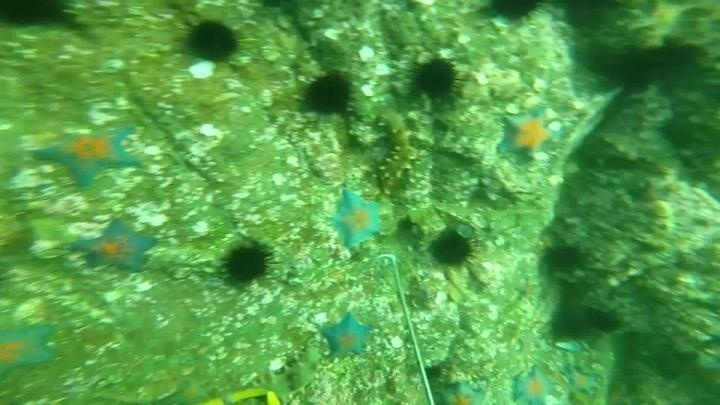echinus: (183, 18, 243, 64), (300, 70, 356, 118), (220, 240, 275, 287), (410, 55, 462, 103), (557, 1, 631, 33), (1, 1, 74, 31), (427, 227, 476, 271), (610, 49, 655, 93), (480, 1, 549, 28), (541, 241, 589, 277), (549, 303, 586, 343), (659, 116, 697, 152), (583, 303, 622, 334), (426, 362, 448, 386)
holothurian: (250, 337, 327, 405), (373, 107, 419, 196)
starfish: (31, 120, 144, 190), (70, 216, 159, 275), (328, 188, 386, 251), (1, 319, 60, 380), (496, 107, 558, 162), (320, 310, 375, 361), (510, 364, 560, 405), (162, 372, 216, 404), (433, 378, 488, 403), (564, 365, 603, 398)
